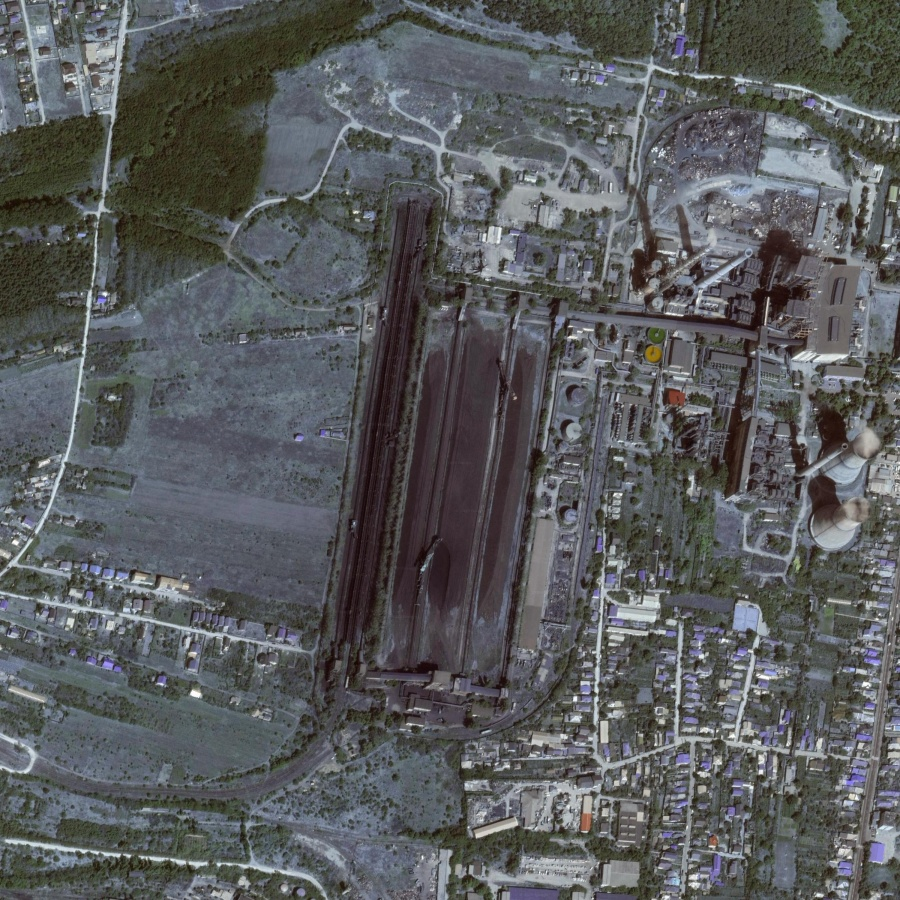PowerPlant: (338, 171, 891, 719)
